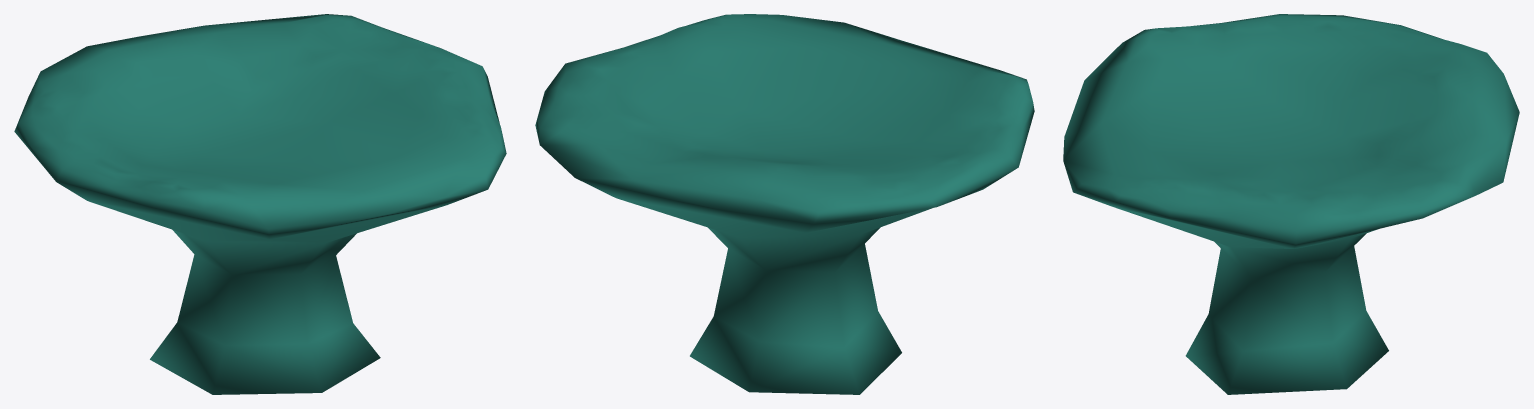
File: my_mesh_Table_Coral.001.glb
The picture shows the model from 3 angles, left to right: view 1: azimuth 30°, elevation 25°; view 2: azimuth 150°, elevation 25°; view 3: azimuth 270°, elevation 25°; orthographic projection. The views are drawn at different scales.
Parts seen in each view (by area): view 1: Table_Coral.001; view 2: Table_Coral.001; view 3: Table_Coral.001.
Part boxes in pixels (box(x1,y1,x2,y2)): Table_Coral.001: box(14, 14, 506, 394); Table_Coral.001: box(535, 14, 1034, 394); Table_Coral.001: box(1063, 14, 1519, 394).
Size of the model in its own units: 9.5 by 5.27 by 8.57.
Materials: 1 (1 with a texture image).
